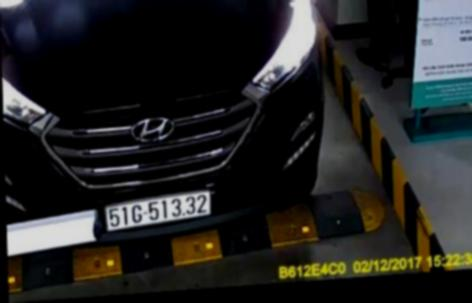License_Plate: (101, 191, 217, 232)
